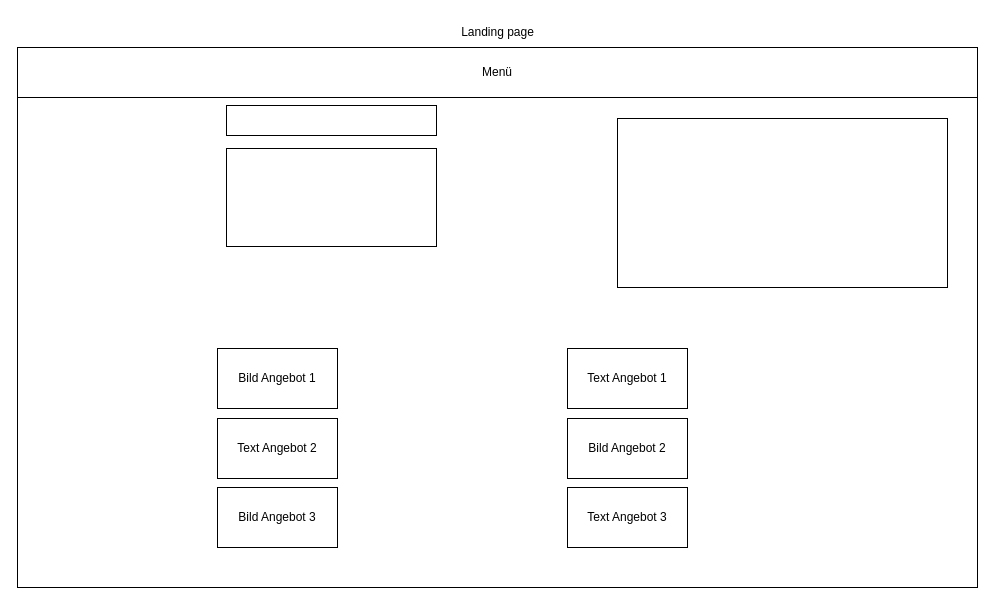
Some shapes in this 995 by 605 pixel diagram are drawn without their labels. Here are the shapes that lost their labels. From the top down, the centre of each, then its label:
At pixel 331 120: "SETUP-FLICK AG".
At pixel 331 197: "Beschreibung Setup-Flick AG".
At pixel 782 203: "Vorher/Nachher (Setup kaputt, Setup wieder heil)".
